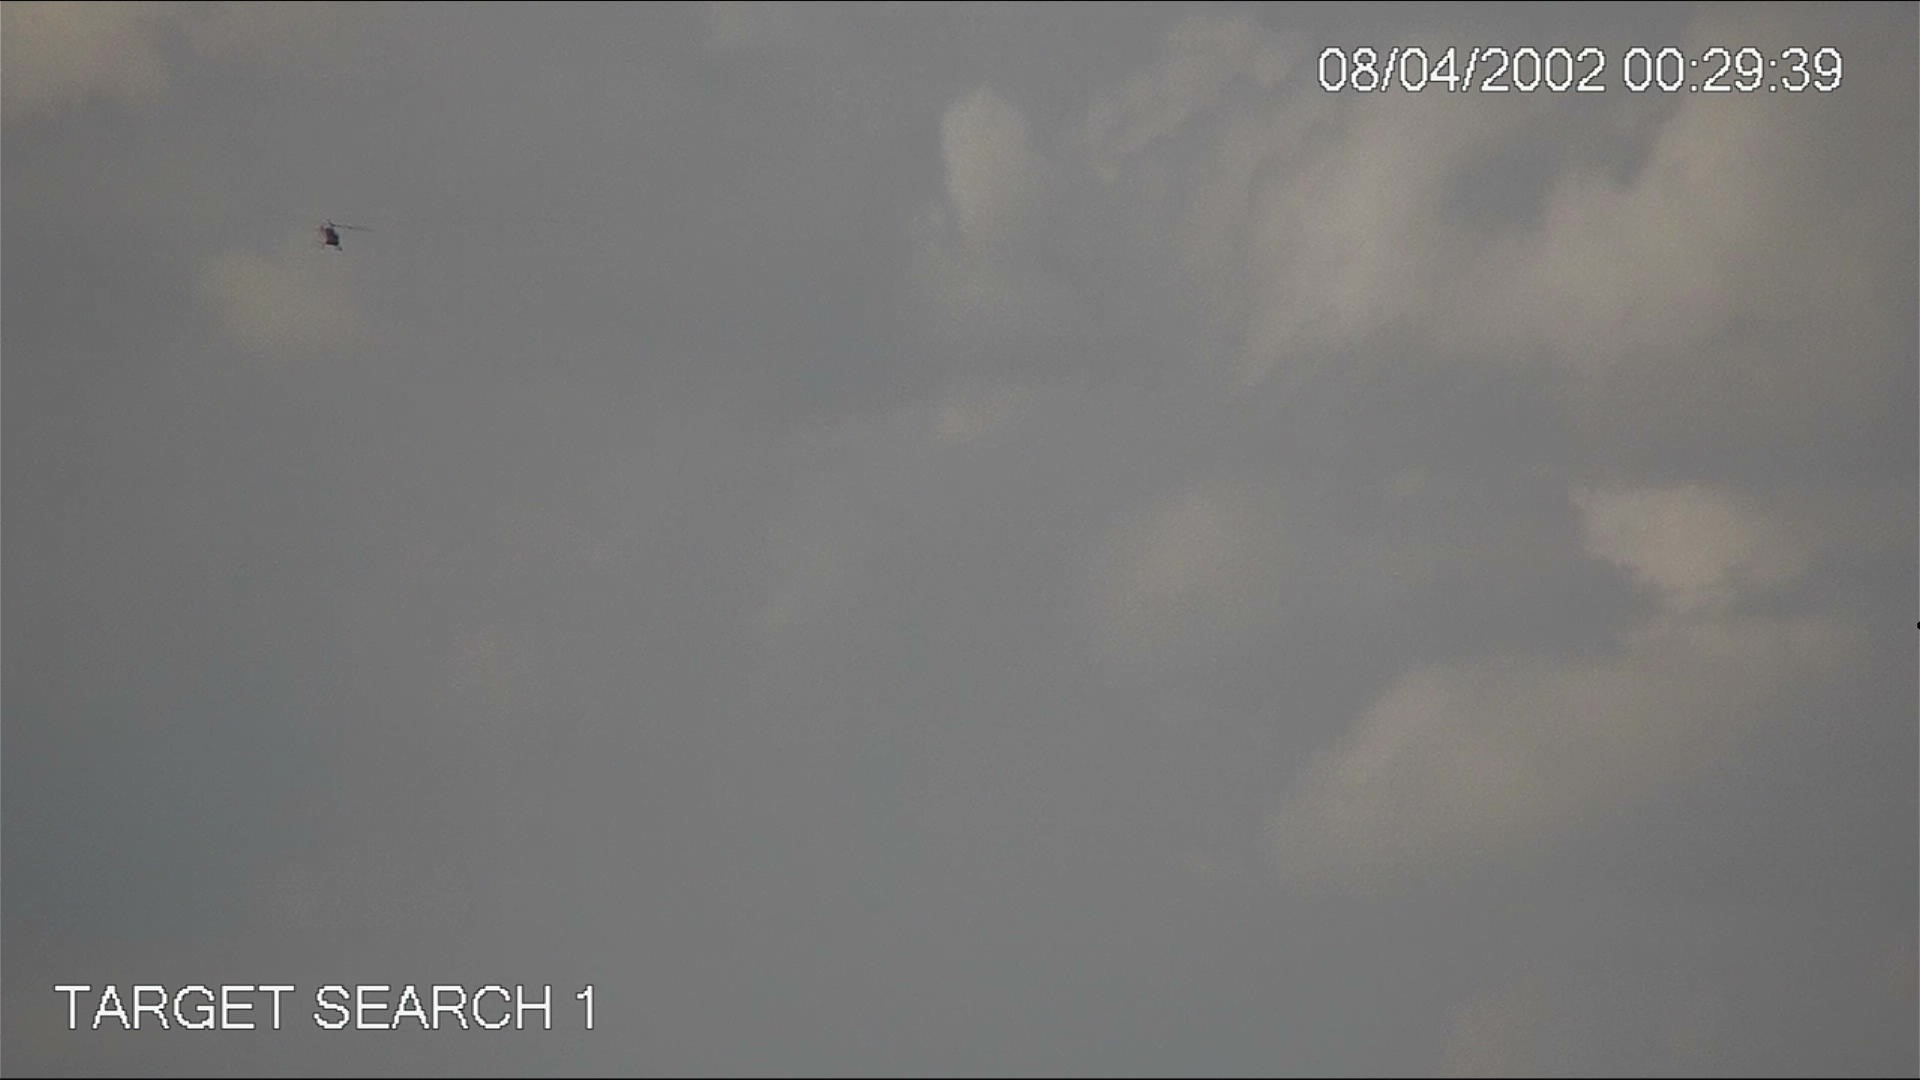SU_30: (309, 211, 363, 256)
